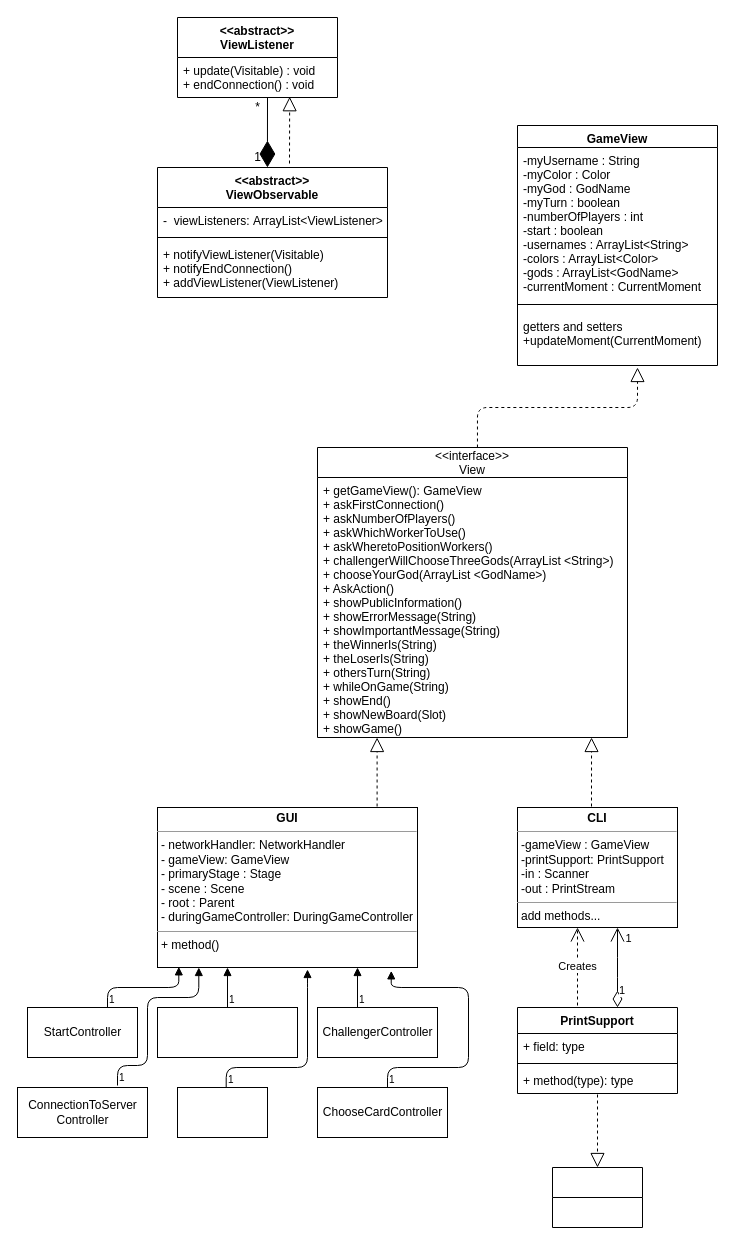
This 735x1245 diagram has some shape labels left out. Each missing label, with the centre of its shape:
AnsiCode: (x=597, y=1197)
ChoosePlayerController: (x=227, y=1032)
DuringGame Controller: (x=222, y=1112)
